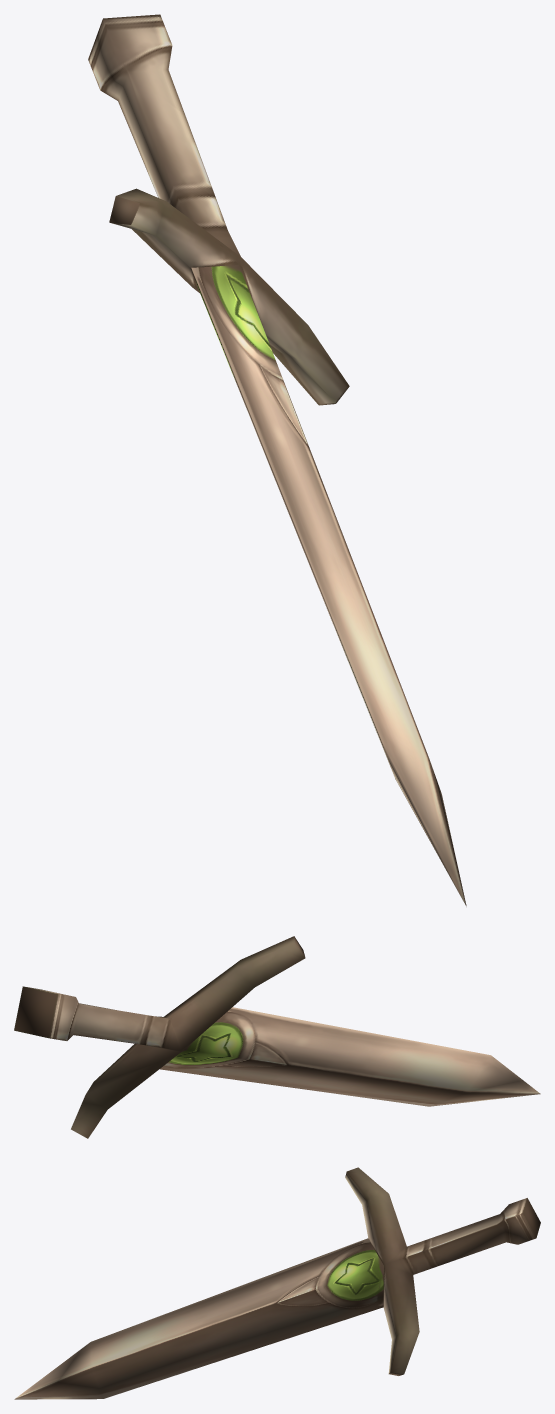
Rendered from Sword(47).obj.
The picture shows the model from 3 angles, top to bottom: view 1: azimuth 30°, elevation 25°; view 2: azimuth 150°, elevation 25°; view 3: azimuth 270°, elevation 25°; orthographic projection. The views are drawn at different scales.
Visible parts, largest first — view 1: sword1_LOD003; view 2: sword1_LOD003; view 3: sword1_LOD003.
Boxes of the visible parts, bbox=[...] form: sword1_LOD003: bbox=[88, 14, 466, 906]; sword1_LOD003: bbox=[14, 936, 540, 1138]; sword1_LOD003: bbox=[14, 1167, 540, 1399].
Bounding box in the file's own units: 0.3768 × 0.6187 × 1.24.
